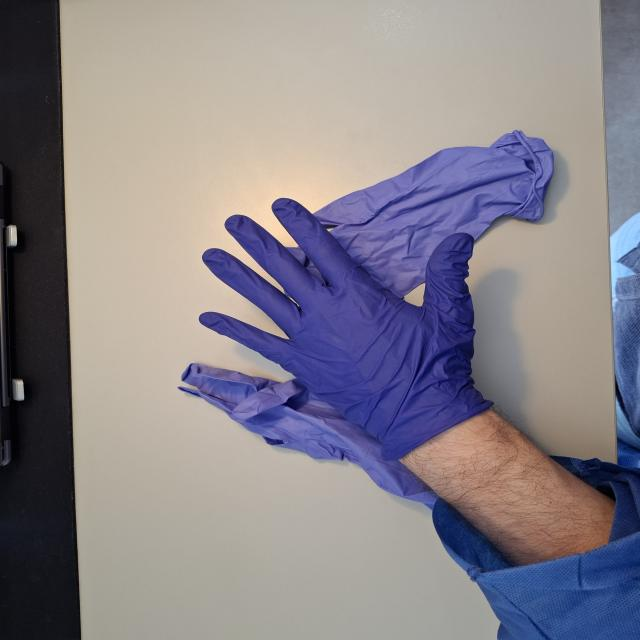glove_on: (197, 197, 495, 456)
